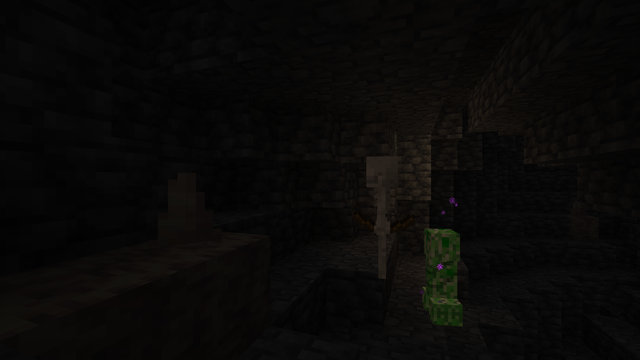creepers: (423, 223, 460, 325)
squelettes: (361, 156, 400, 283)
